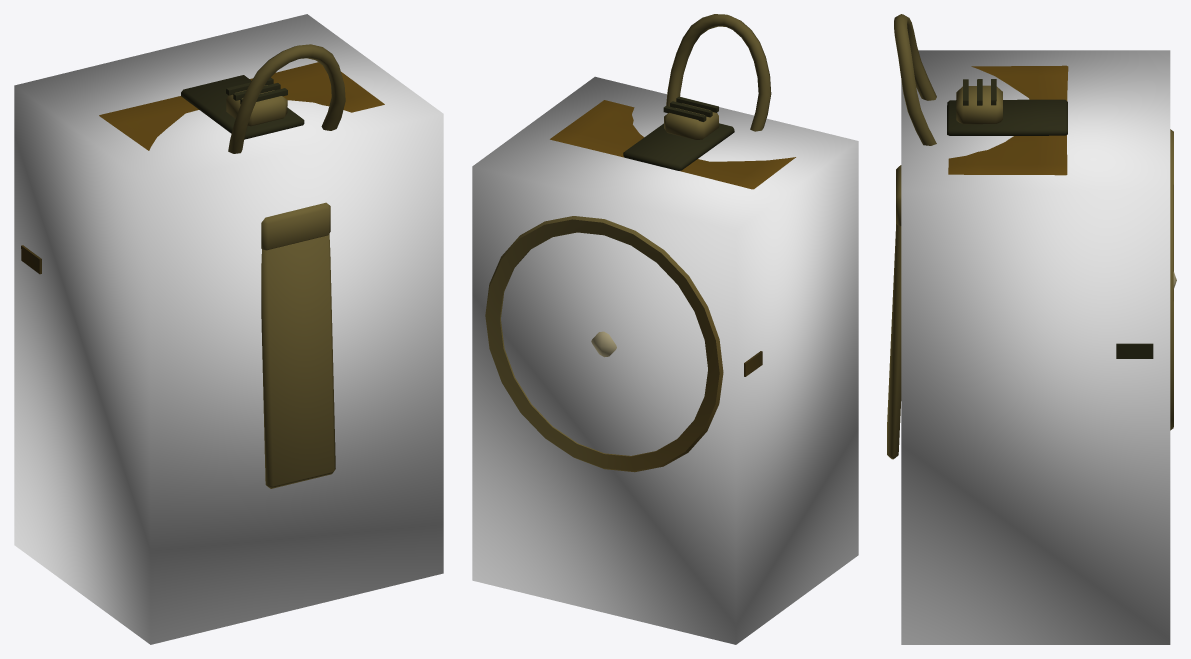
The model's file is linterna.glb.
The picture shows the model from 3 angles, left to right: view 1: azimuth 30°, elevation 25°; view 2: azimuth 150°, elevation 25°; view 3: azimuth 270°, elevation 25°; orthographic projection. The views are drawn at different scales.
Parts seen in each view (by area): view 1: linterna-colcaja, cuerpo; view 2: linterna-colcaja, cuerpo; view 3: linterna-colcaja, cuerpo.
Part boxes in pixels (bbox=[...]): linterna-colcaja: bbox=[14, 14, 443, 644]; cuerpo: bbox=[21, 44, 384, 488]; linterna-colcaja: bbox=[472, 76, 858, 644]; cuerpo: bbox=[485, 14, 795, 472]; linterna-colcaja: bbox=[901, 50, 1170, 644]; cuerpo: bbox=[887, 14, 1173, 459].
Size of the model in its own units: 0.0729 by 0.1325 by 0.0626.
